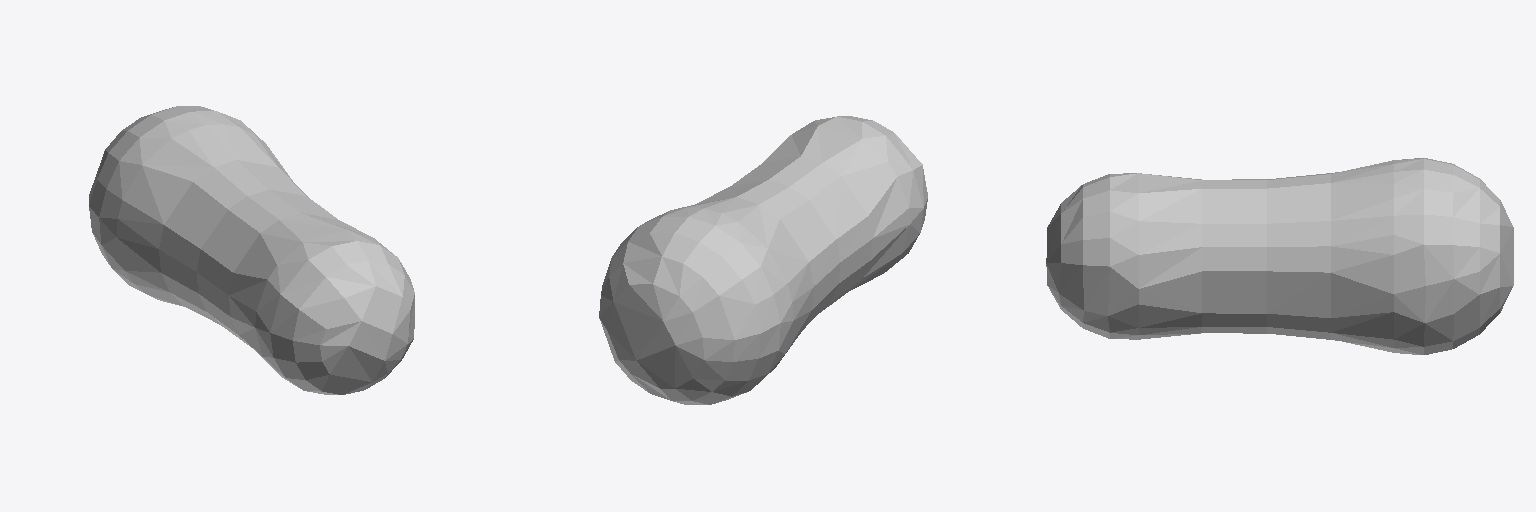
The model's file is right_th_proximal.obj.
3 views of the same model, side by side, from view 1: azimuth 30°, elevation 25°; view 2: azimuth 150°, elevation 25°; view 3: azimuth 270°, elevation 25° (orthographic).
Parts seen in each view (by area): view 1: right_th_proximal; view 2: right_th_proximal; view 3: right_th_proximal.
Part boxes in pixels (left/top/right/bottom): right_th_proximal: left=89, top=106, right=414, bottom=394; right_th_proximal: left=599, top=116, right=927, bottom=404; right_th_proximal: left=1046, top=158, right=1513, bottom=354.
Bounding box in the file's own units: 0.0255 × 0.0259 × 0.0609.